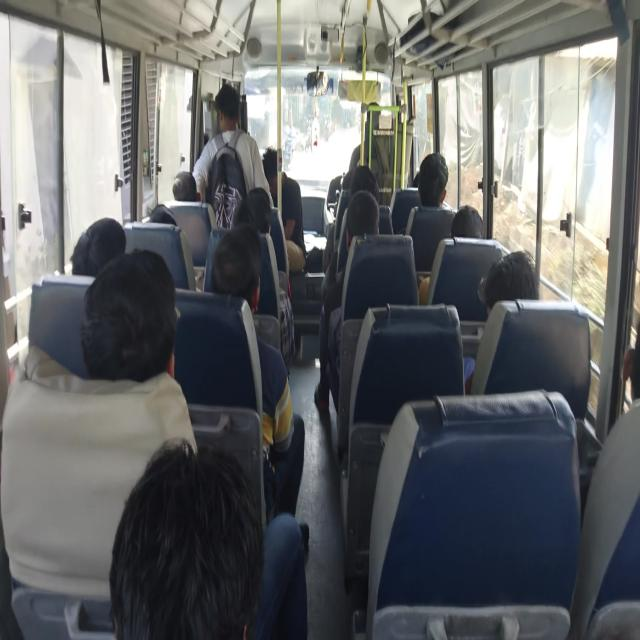person: (108, 469, 242, 640), (90, 262, 184, 382), (68, 210, 127, 303), (490, 249, 550, 327), (216, 228, 258, 318), (206, 60, 240, 160), (165, 156, 214, 221), (238, 184, 285, 246), (420, 143, 457, 220), (346, 187, 389, 252), (253, 148, 290, 202), (445, 207, 483, 253), (341, 168, 383, 203), (148, 196, 177, 234), (411, 156, 433, 191)
